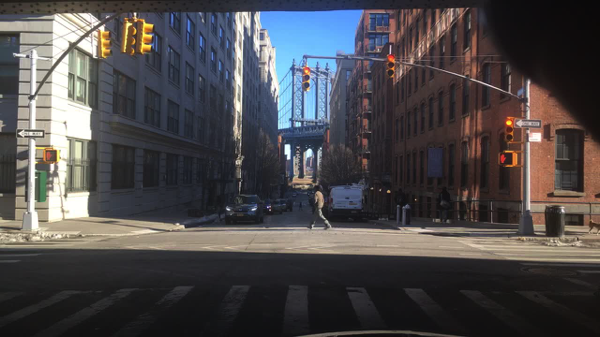car: (223, 193, 265, 225), (262, 198, 275, 216), (273, 199, 284, 216), (279, 199, 289, 212), (286, 198, 294, 212), (306, 191, 312, 197), (292, 192, 298, 198)
person: (308, 183, 332, 232), (437, 185, 452, 226), (216, 195, 227, 223), (395, 187, 407, 204), (298, 200, 304, 211)
traffic light: (135, 20, 155, 56), (121, 19, 137, 58), (96, 30, 113, 59), (497, 152, 517, 167), (385, 54, 396, 77), (504, 117, 513, 143), (301, 67, 310, 92), (44, 148, 60, 162)
traffic sign: (15, 129, 46, 139), (513, 118, 541, 128), (528, 133, 541, 142), (517, 88, 525, 97)
truck: (328, 185, 365, 223)
